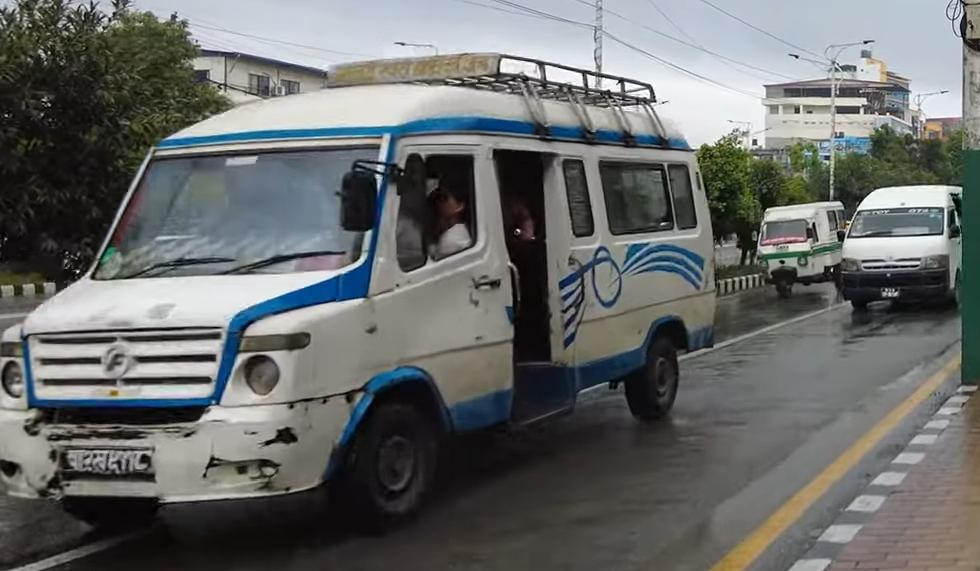micro_bus: (0, 48, 736, 546), (831, 182, 980, 312)
tempo: (755, 199, 848, 298)
